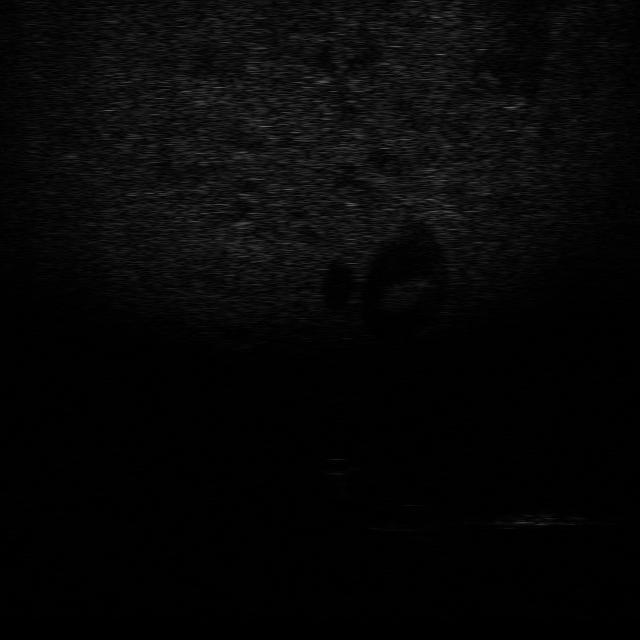ball: (318, 451, 367, 476)
metal bucket: (477, 503, 588, 533)
tyre: (372, 496, 442, 533)
